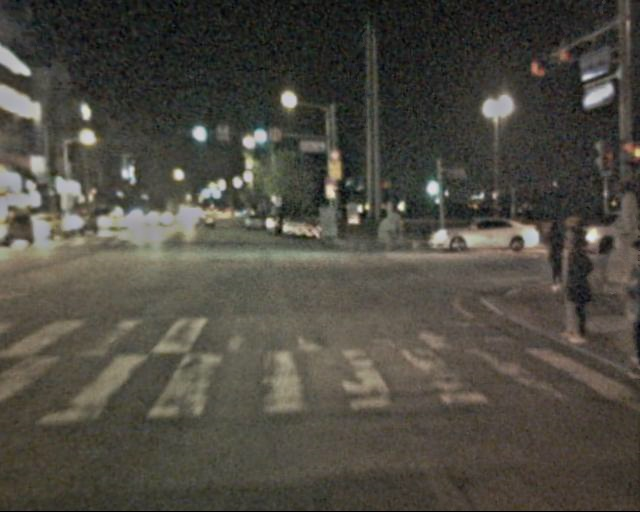person: (551, 238, 601, 344), (607, 240, 640, 385), (540, 213, 571, 289)
